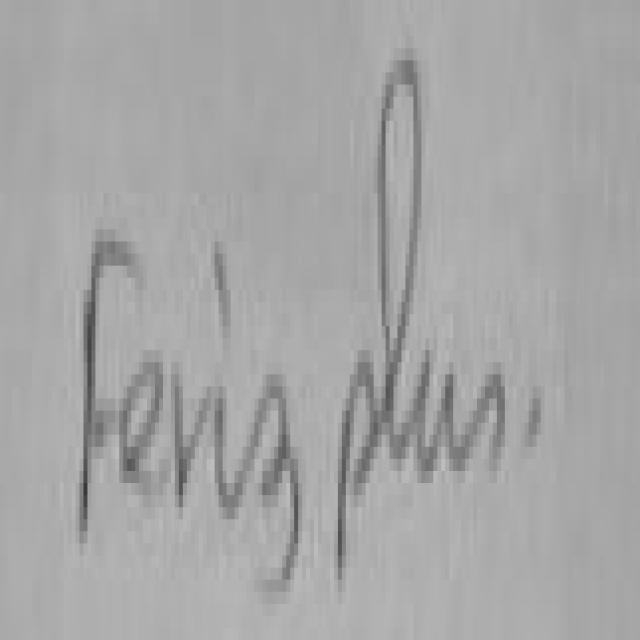F: (80, 242, 139, 543)
e: (123, 362, 167, 495)
i: (215, 398, 239, 519), (215, 242, 231, 350)
l: (382, 60, 421, 459)
p: (338, 362, 382, 580)
s: (262, 386, 302, 586), (460, 373, 504, 471)
u: (415, 358, 459, 484)
v: (175, 374, 211, 501)
